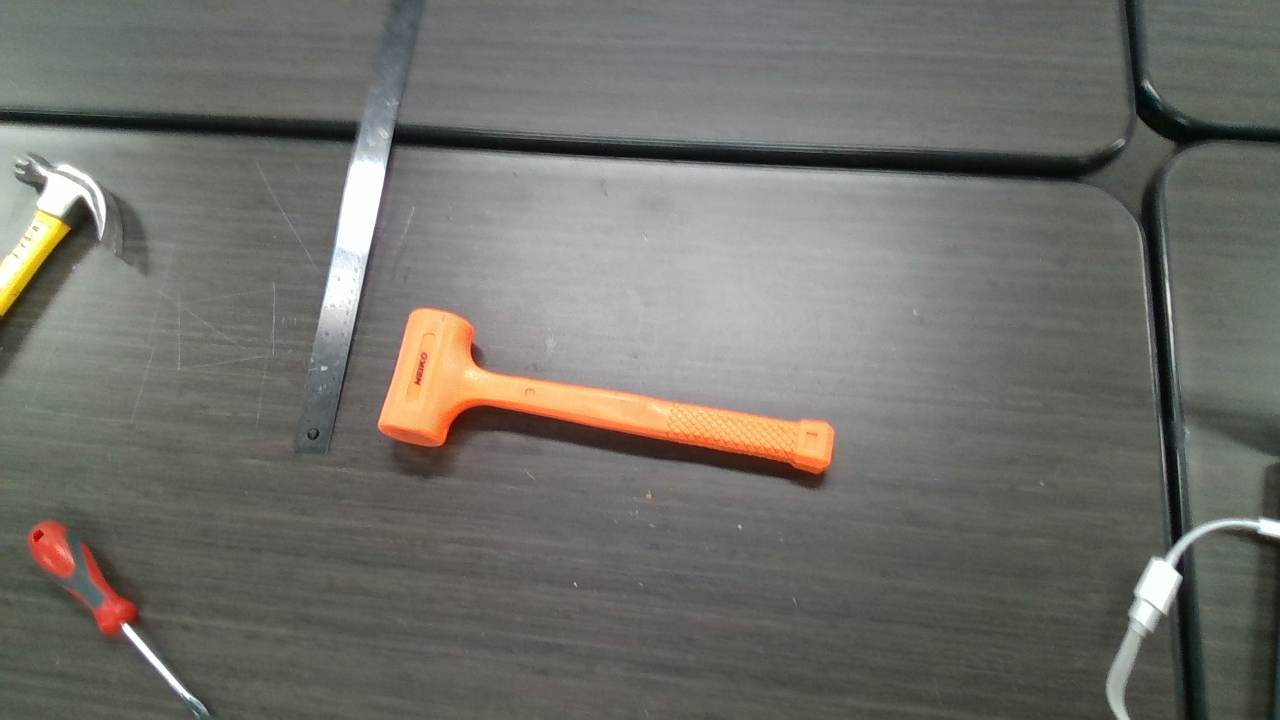Orange Hammer: (382, 307, 833, 475)
